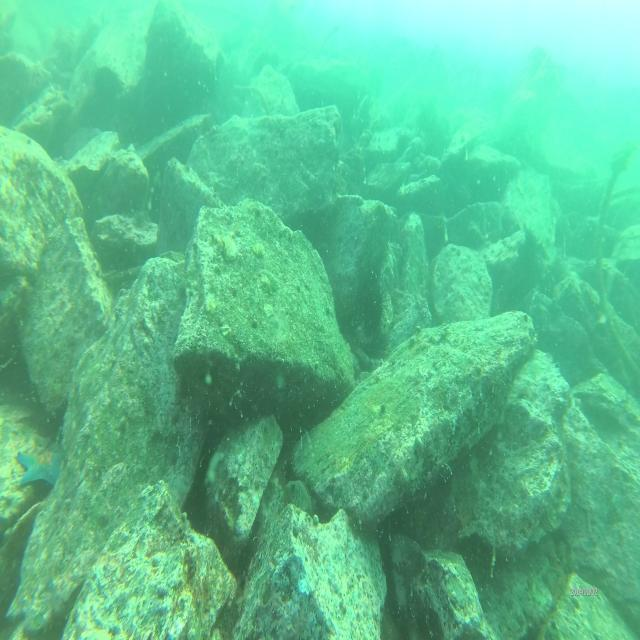starfish: (13, 446, 66, 490)
